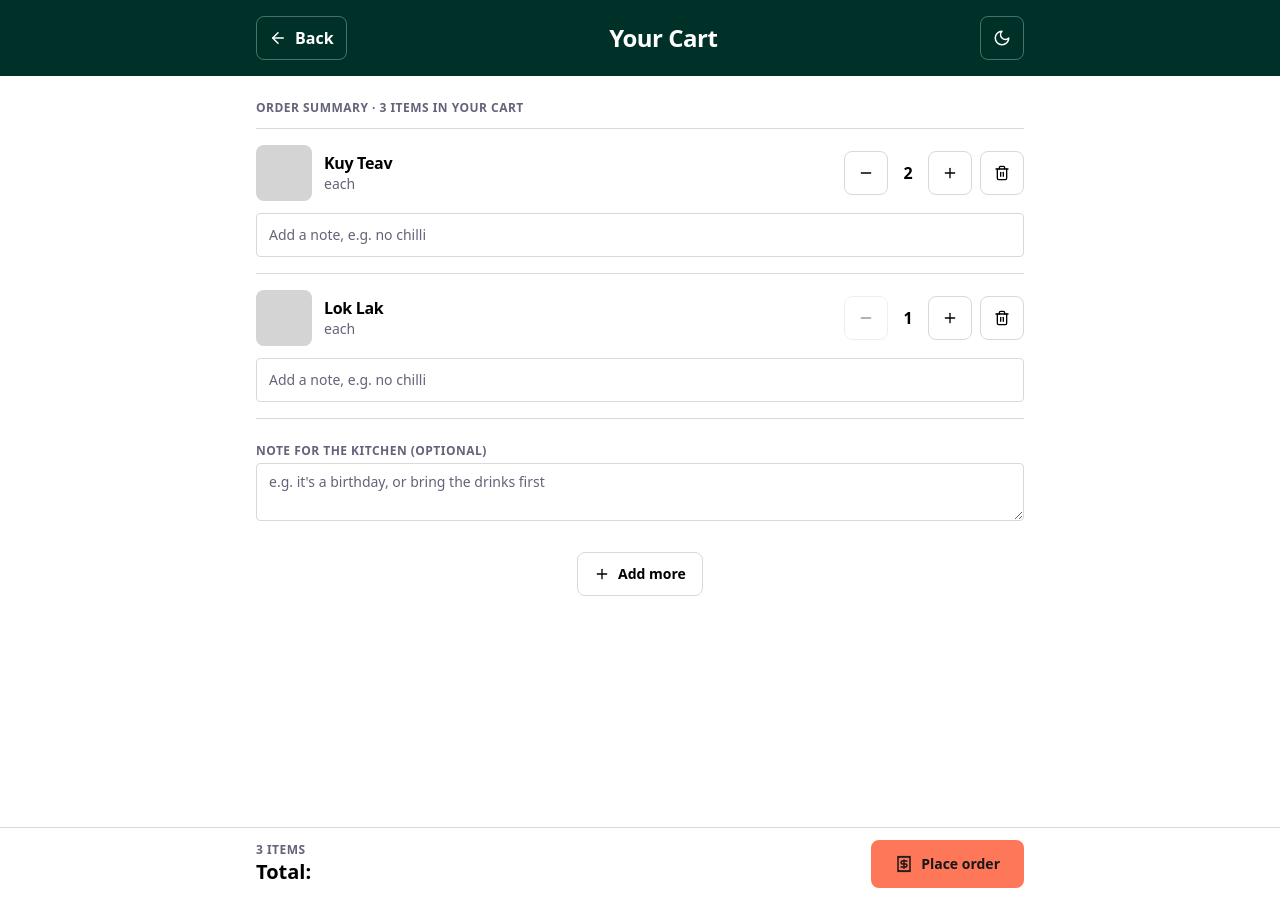
Test: cart page › shows an error when the order fails
The width and height of the screenshot is (1280, 900).
expect the heading "Kuy Teav" is shown: met, box [324,152,392,174]
Click the button "Place order" at (948, 864), box [871,840,1024,888]
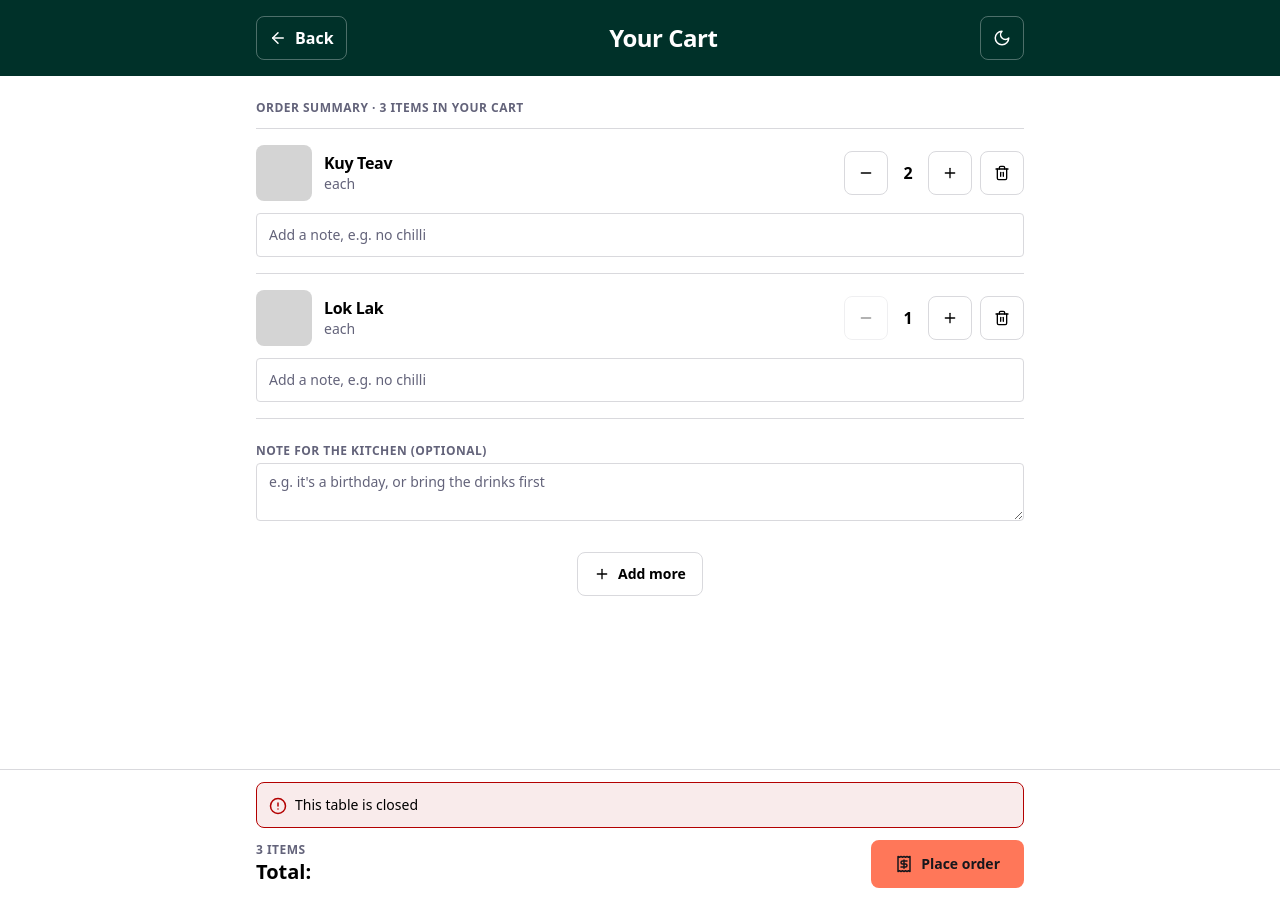
expect the message reads "This table is closed": met, box [295,795,418,814]
